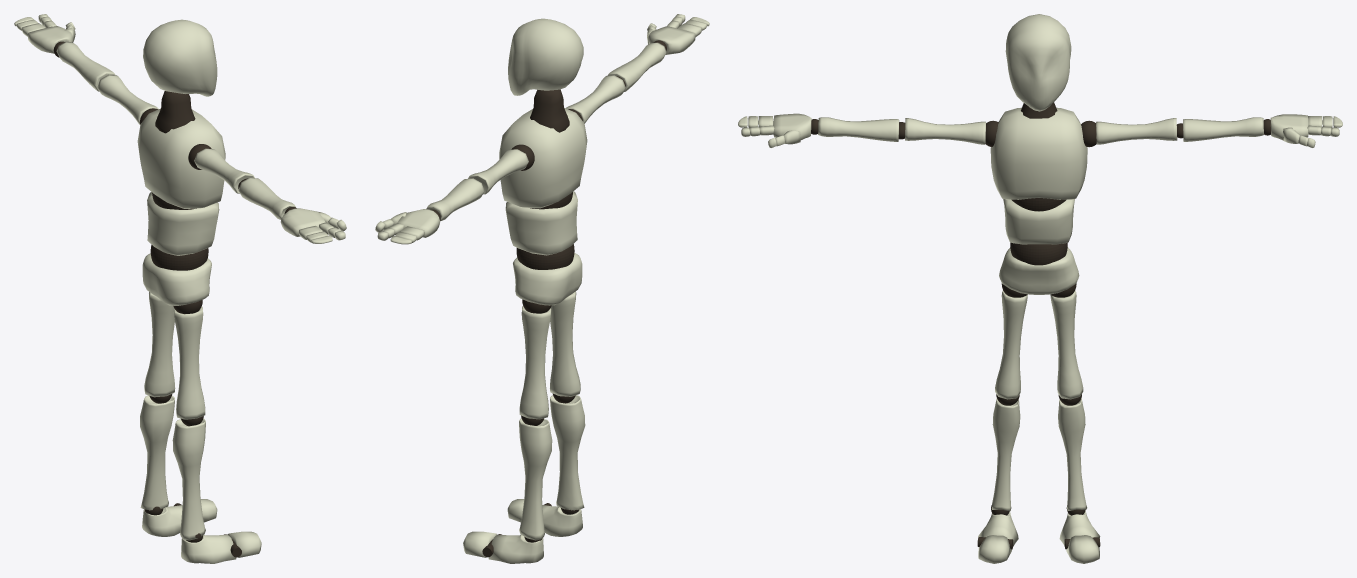
File: dummy animacion.fbx
3 renders of one model, left to right at view 1: azimuth 30°, elevation 25°; view 2: azimuth 150°, elevation 25°; view 3: azimuth 270°, elevation 25°, orthographic.
Visible parts, largest first — view 1: Cube.001; view 2: Cube.001; view 3: Cube.001.
Part boxes in pixels (left/top/right/bottom): Cube.001: left=14, top=14, right=346, bottom=563; Cube.001: left=375, top=14, right=709, bottom=563; Cube.001: left=738, top=14, right=1342, bottom=563.
Size of the model in its own units: 0.8273 by 4.52 by 4.78.
